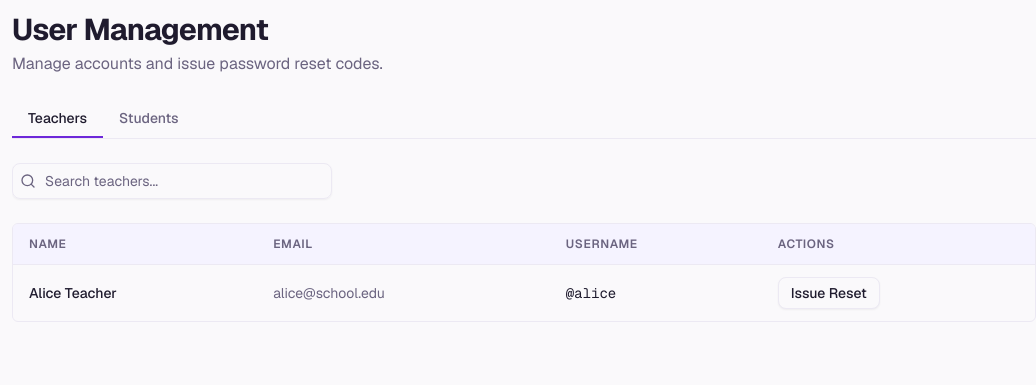
Test: StaffManagementView › shows error when student reload fails
Expected: the text "Alice Teacher" is shown, [13,264,257,321]
Click the button "Students".
click(149, 119)  # box [103,100,195,138]
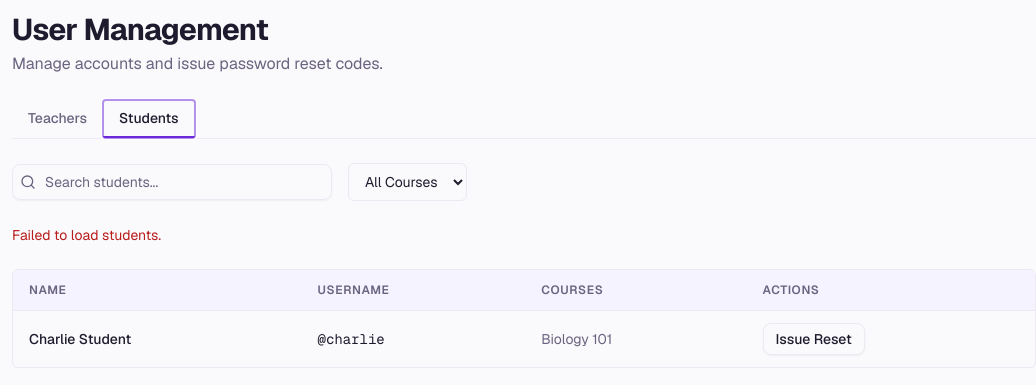
Expected: the text "Failed to load students." is shown, [12,226,161,244]
